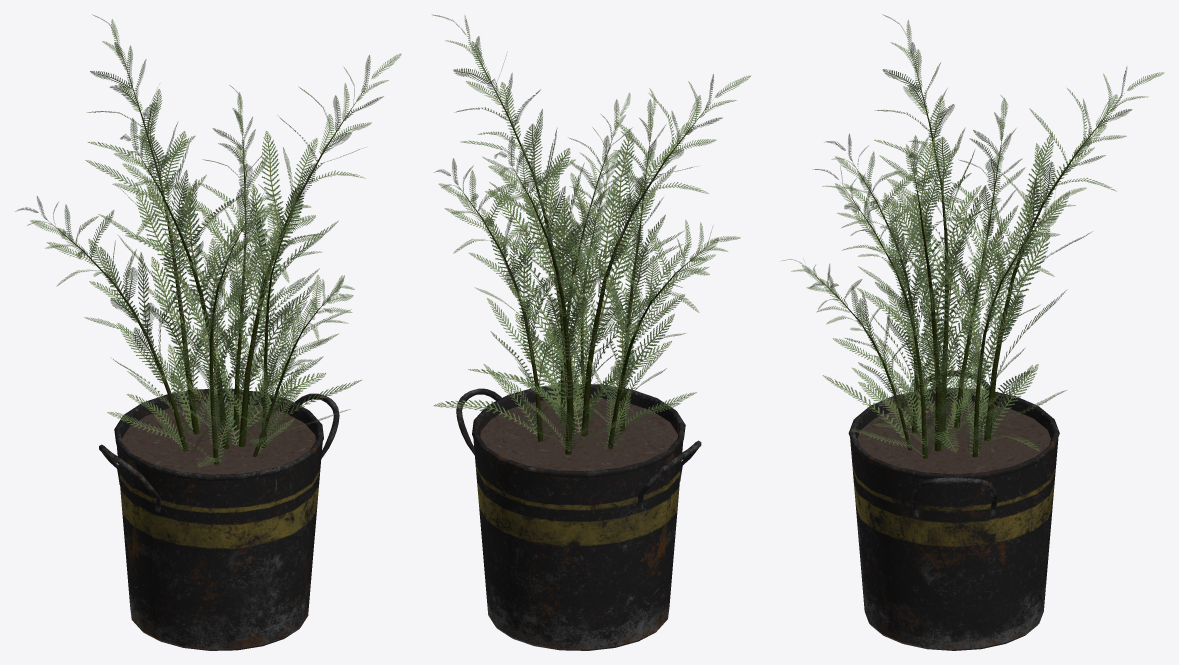
The picture shows the model from 3 angles, left to right: view 1: azimuth 30°, elevation 25°; view 2: azimuth 150°, elevation 25°; view 3: azimuth 270°, elevation 25°; orthographic projection.
Visible parts, largest first — view 1: SM_GreenHerb; view 2: SM_GreenHerb; view 3: SM_GreenHerb.
Boxes of the visible parts, x1,y1,x2,y2 form: SM_GreenHerb: [15, 14, 401, 650]; SM_GreenHerb: [432, 14, 750, 650]; SM_GreenHerb: [782, 14, 1164, 650].
Size of the model in its own units: 53.53 by 80.06 by 51.43.
Materials: 1 (1 with a texture image).
